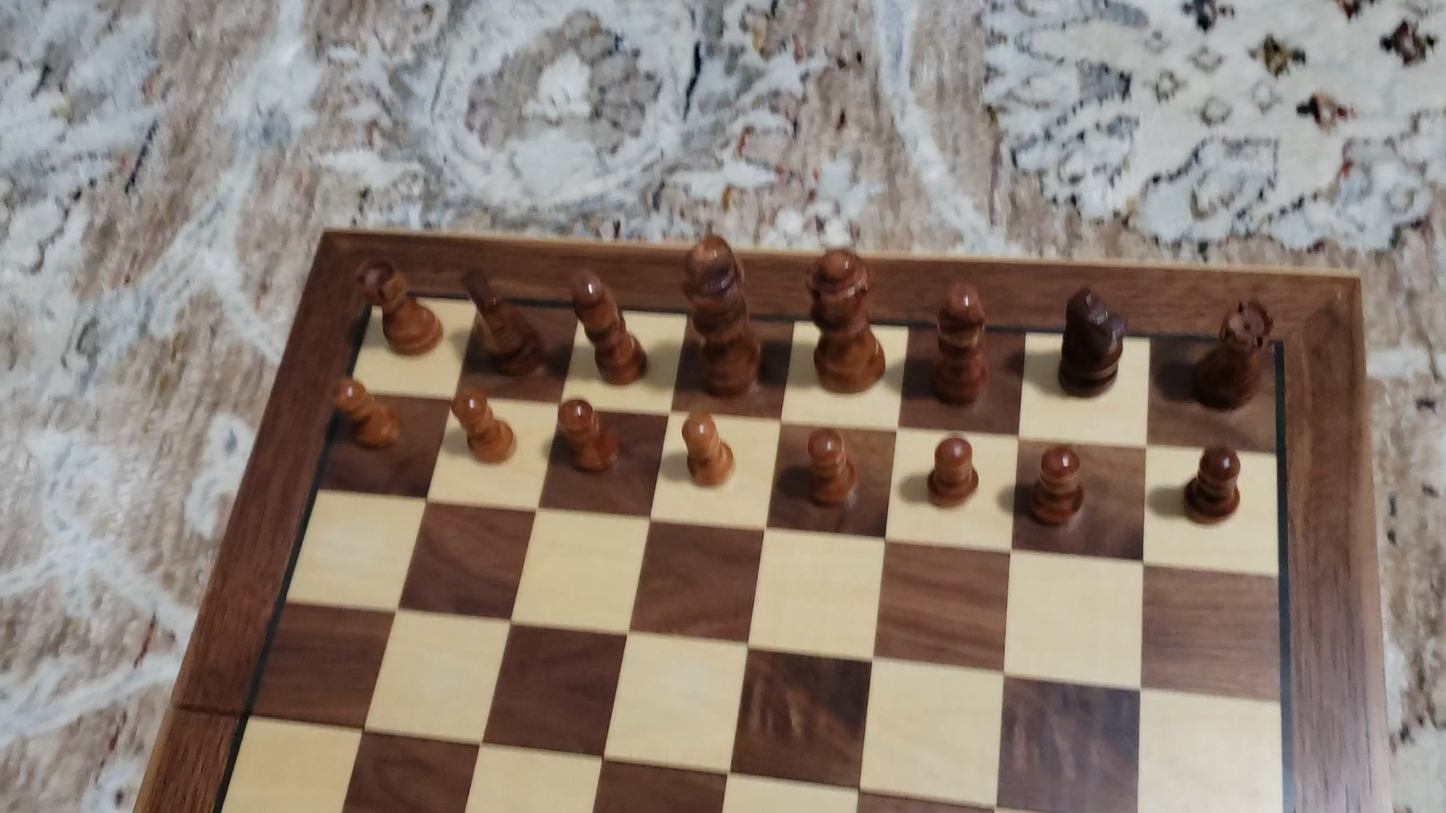black-bishop: (930, 271, 1004, 410), (568, 263, 646, 386)
black-king: (678, 228, 764, 398)
black-knight: (460, 265, 547, 377), (1055, 285, 1129, 397)
black-pawn: (330, 374, 403, 452), (450, 385, 517, 467), (1026, 442, 1087, 531), (1182, 441, 1245, 527), (553, 394, 618, 476), (803, 424, 860, 512), (679, 407, 736, 491), (924, 433, 981, 510)
black-queen: (802, 244, 888, 394)
black-rook: (1187, 299, 1277, 412), (353, 256, 445, 357)
